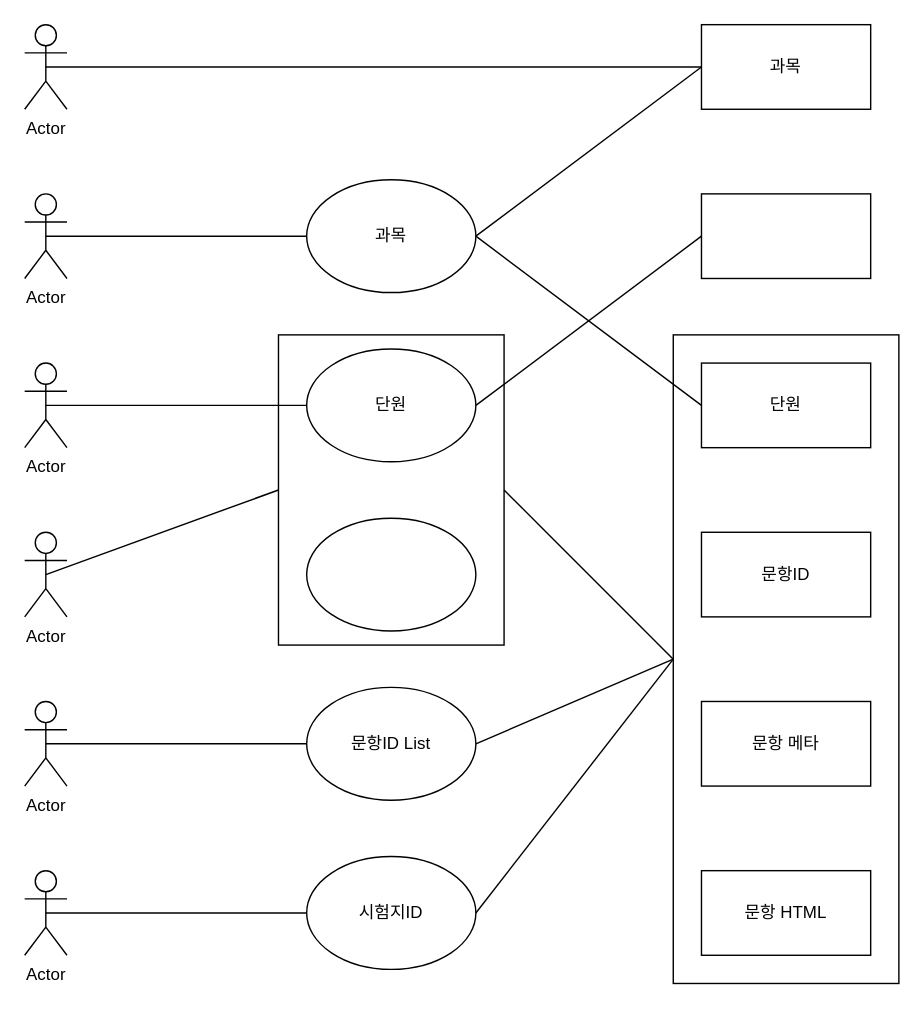
Image size: 924x1010. Some labels were removed from this diagram. The centre of each missing label's shape, as x and y in pixels:
단원별 문항 수: the point at 785,235
문항메타: the point at 390,574
